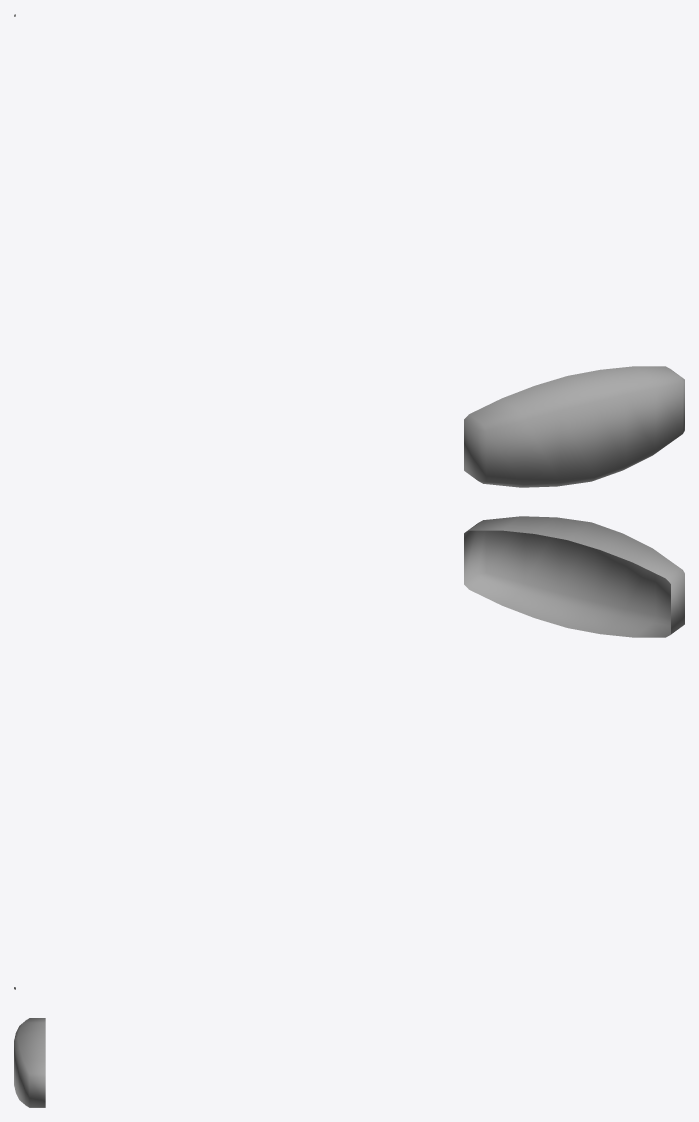
File: AlarmClockButton_14_AlarmClockButton_14_1_GeomSubset_2.obj
3 views of the same model, one above another, from view 1: azimuth 30°, elevation 25°; view 2: azimuth 150°, elevation 25°; view 3: azimuth 270°, elevation 25° (orthographic). The views are drawn at different scales.
Visible parts, largest first — view 1: AlarmClockButton_14_AlarmClockButton_14_1_GeomSubset_2; view 2: AlarmClockButton_14_AlarmClockButton_14_1_GeomSubset_2; view 3: AlarmClockButton_14_AlarmClockButton_14_1_GeomSubset_2.
Boxes of the visible parts, x1,y1,x2,y2 form: AlarmClockButton_14_AlarmClockButton_14_1_GeomSubset_2: (14,14,684,487); AlarmClockButton_14_AlarmClockButton_14_1_GeomSubset_2: (14,516,684,989); AlarmClockButton_14_AlarmClockButton_14_1_GeomSubset_2: (14,1018,45,1107).
Size of the model in its own units: 0.096 by 0.0389 by 0.4655.
